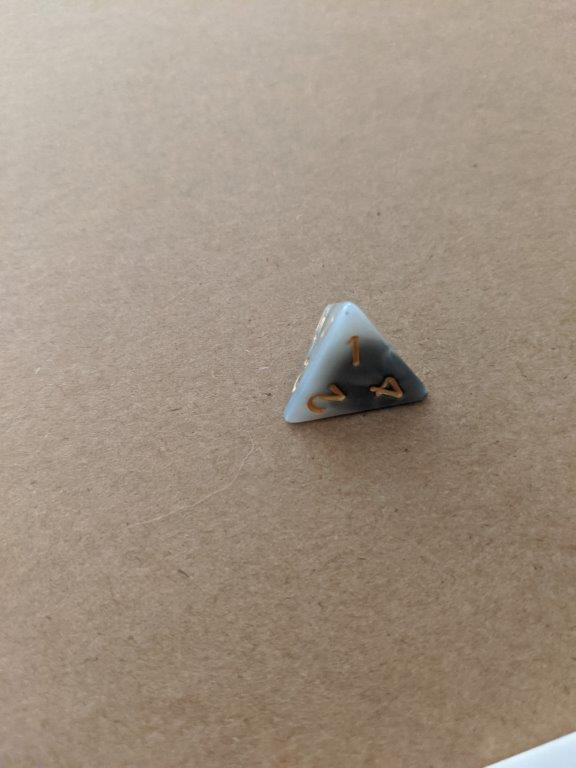d4-1: (277, 294, 432, 432)
